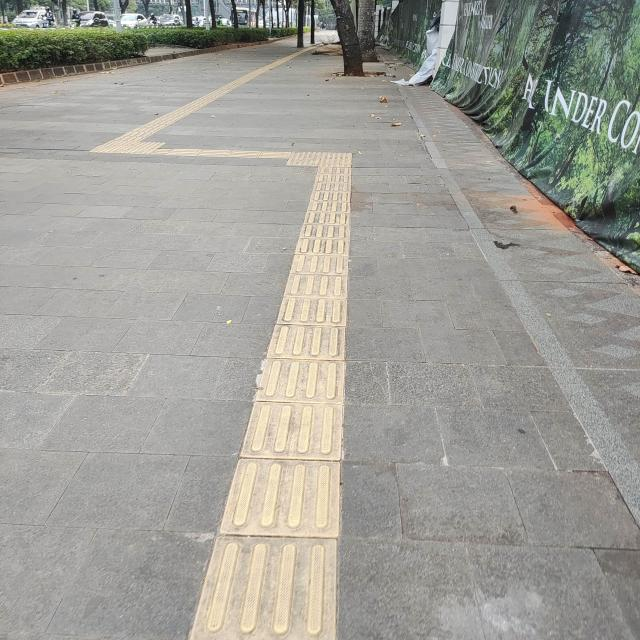kiri: (245, 130, 385, 187)
